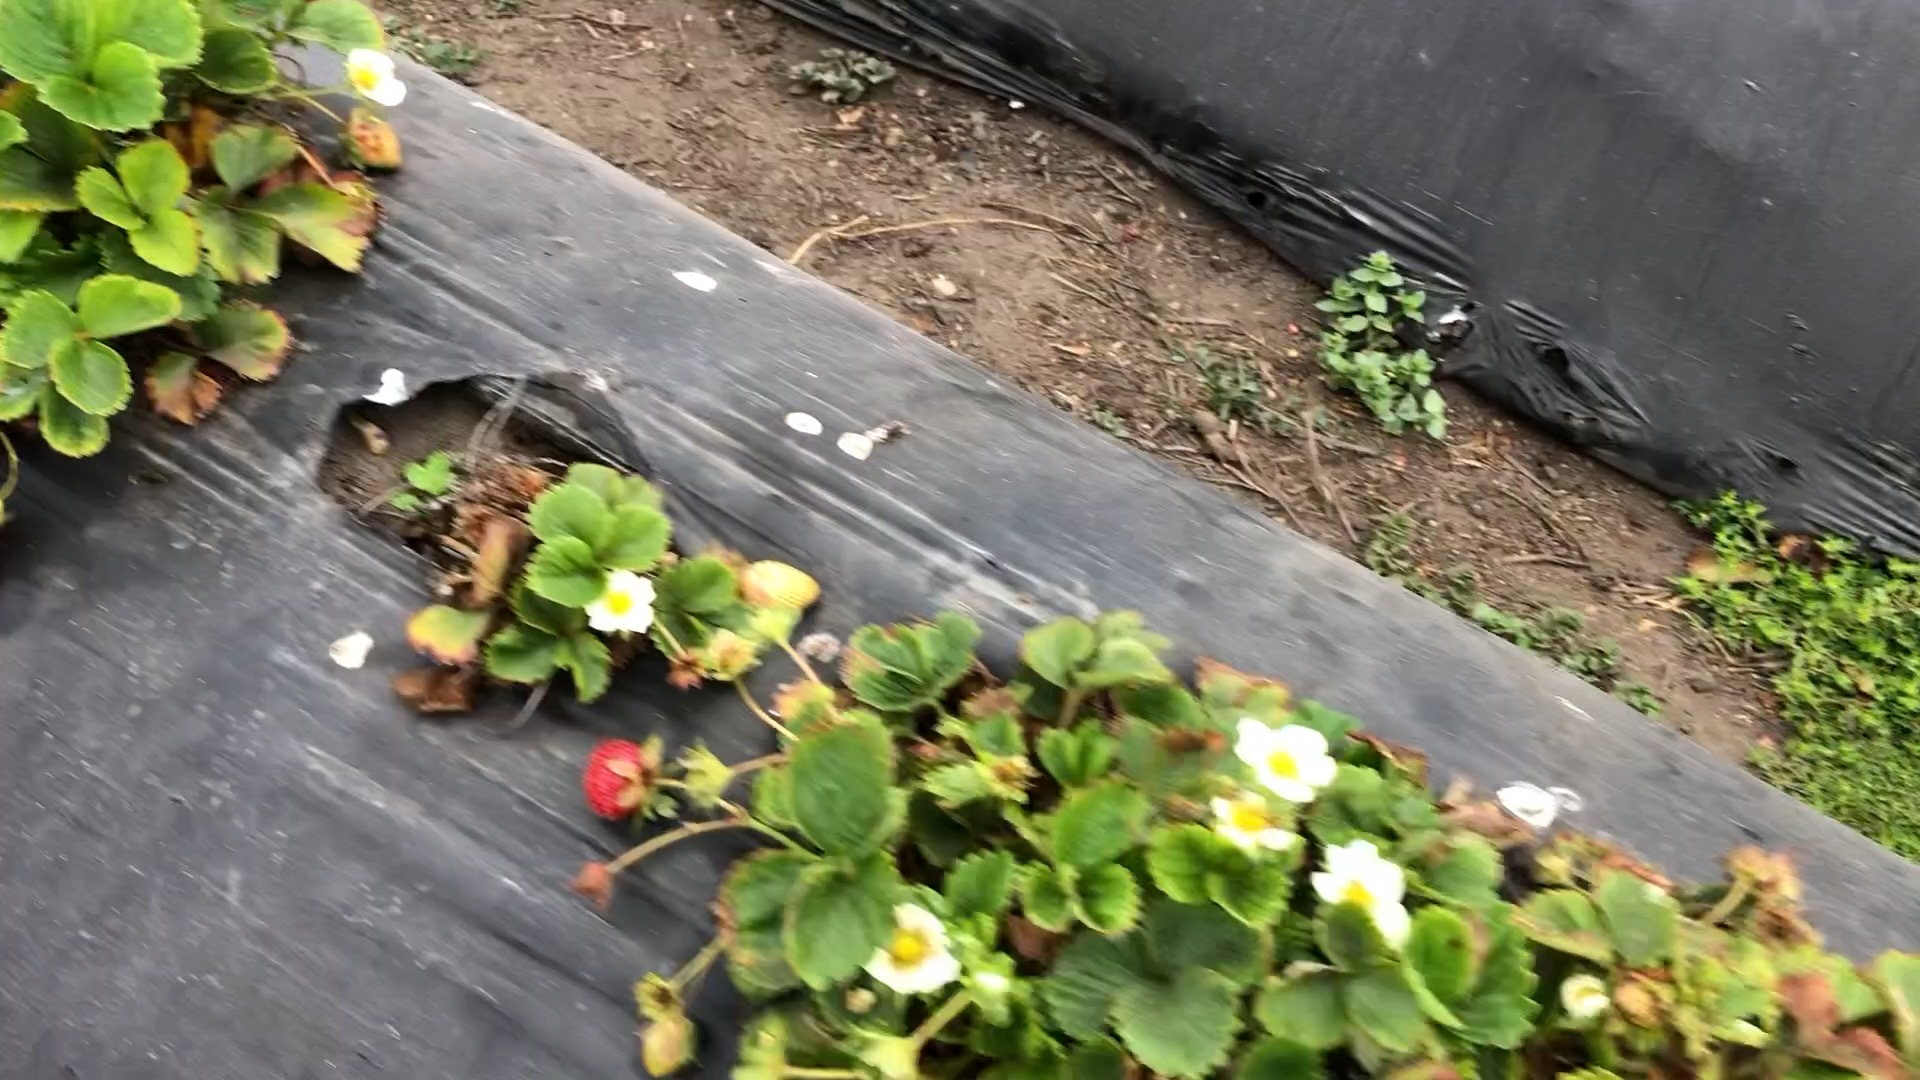ripe_strawberry: (583, 737, 659, 823)
unripe_strawberry: (640, 1010, 698, 1079)
